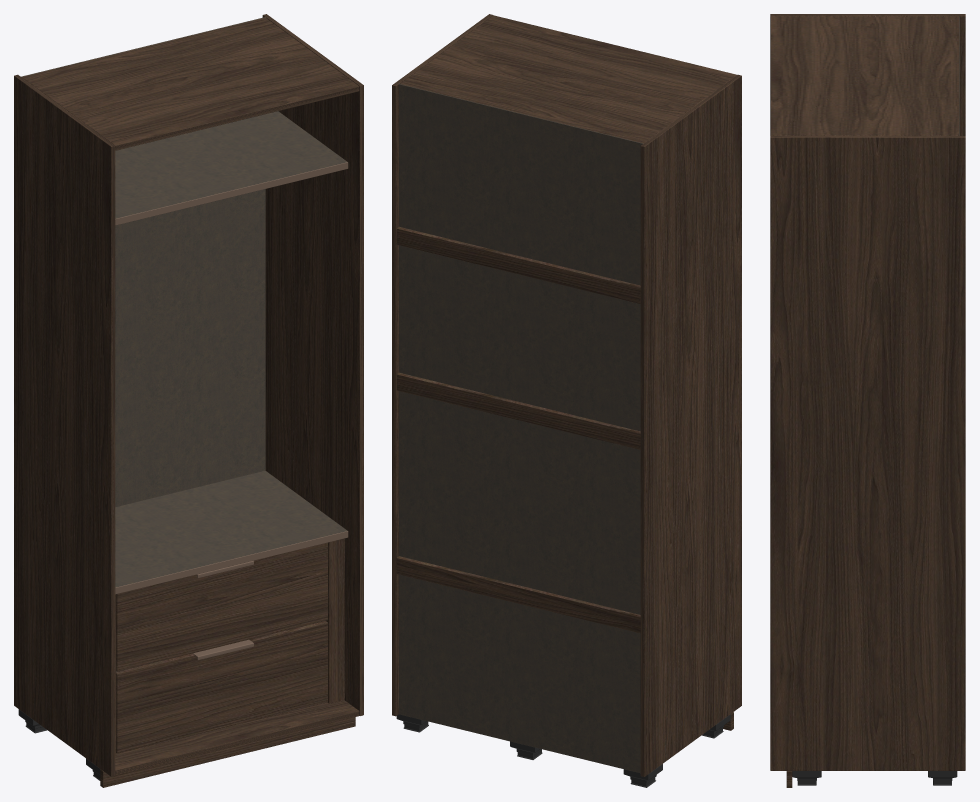
3 renders of one model, left to right at view 1: azimuth 30°, elevation 25°; view 2: azimuth 150°, elevation 25°; view 3: azimuth 270°, elevation 25°, orthographic.
Visible parts, largest first — view 1: HK1001027, BONG_01; view 2: HK1001027; view 3: HK1001027.
Part boxes in pixels (<box>): HK1001027: <box>14,14,363,787</box>; BONG_01: <box>193,561,253,660</box>; HK1001027: <box>392,14,741,787</box>; HK1001027: <box>770,14,965,787</box>.
Size of the model in its own units: 0.9 by 2.2 by 0.6.
Materials: 6 (5 with a texture image).
